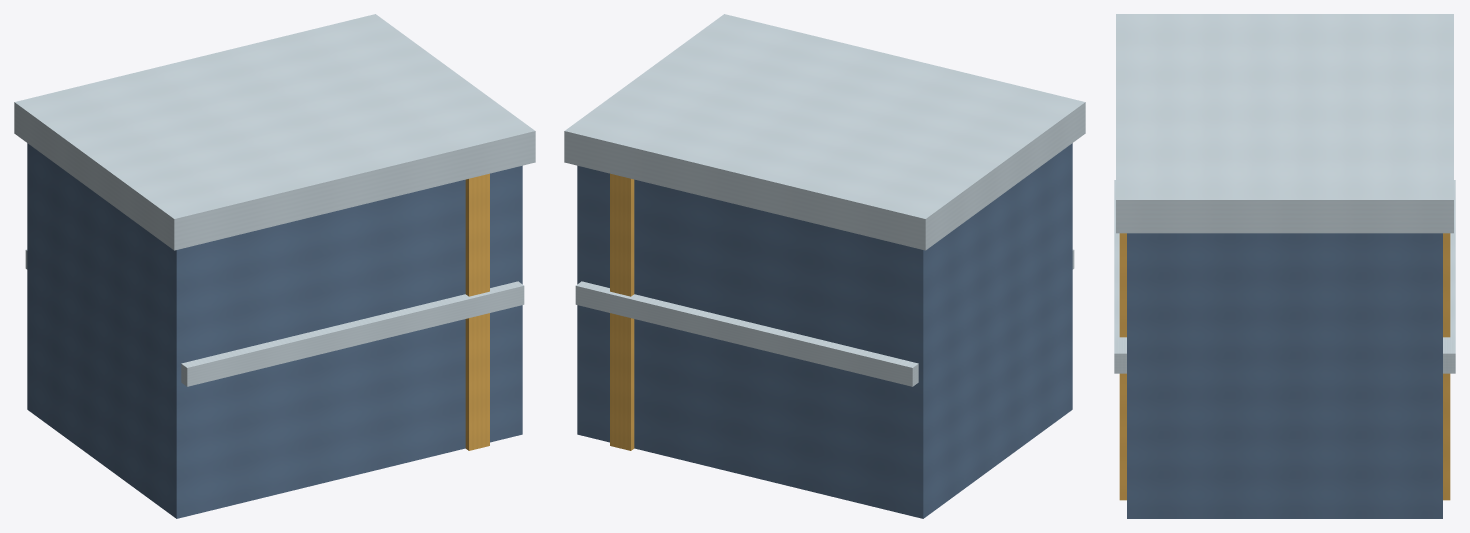
Rendered from atlas100-polar-util02.lod2.glb.
3 renders of one model, left to right at view 1: azimuth 30°, elevation 25°; view 2: azimuth 150°, elevation 25°; view 3: azimuth 270°, elevation 25°, orthographic. The views are drawn at different scales.
Parts seen in each view (by area): view 1: atlas100-polar-util02:part-000, atlas100-polar-util02:part-005, atlas100-polar-util02:part-004, atlas100-polar-util02:part-002; view 2: atlas100-polar-util02:part-000, atlas100-polar-util02:part-005, atlas100-polar-util02:part-003, atlas100-polar-util02:part-002; view 3: atlas100-polar-util02:part-000, atlas100-polar-util02:part-005, atlas100-polar-util02:part-002, atlas100-polar-util02:part-003, atlas100-polar-util02:part-004.
Part boxes in pixels (x1,y1,x2,y2): atlas100-polar-util02:part-000: (27, 143, 522, 518); atlas100-polar-util02:part-005: (14, 14, 535, 250); atlas100-polar-util02:part-004: (181, 281, 524, 386); atlas100-polar-util02:part-002: (465, 173, 489, 450); atlas100-polar-util02:part-000: (577, 143, 1072, 518); atlas100-polar-util02:part-005: (564, 14, 1085, 250); atlas100-polar-util02:part-003: (575, 281, 918, 386); atlas100-polar-util02:part-002: (610, 173, 634, 450); atlas100-polar-util02:part-000: (1127, 233, 1442, 518); atlas100-polar-util02:part-005: (1116, 14, 1453, 233); atlas100-polar-util02:part-002: (1119, 233, 1450, 500); atlas100-polar-util02:part-003: (1443, 180, 1455, 373); atlas100-polar-util02:part-004: (1114, 180, 1126, 373).
Bounding box in the file's own units: 1.2 × 0.97 × 0.93.
3 materials, 3 textured.
